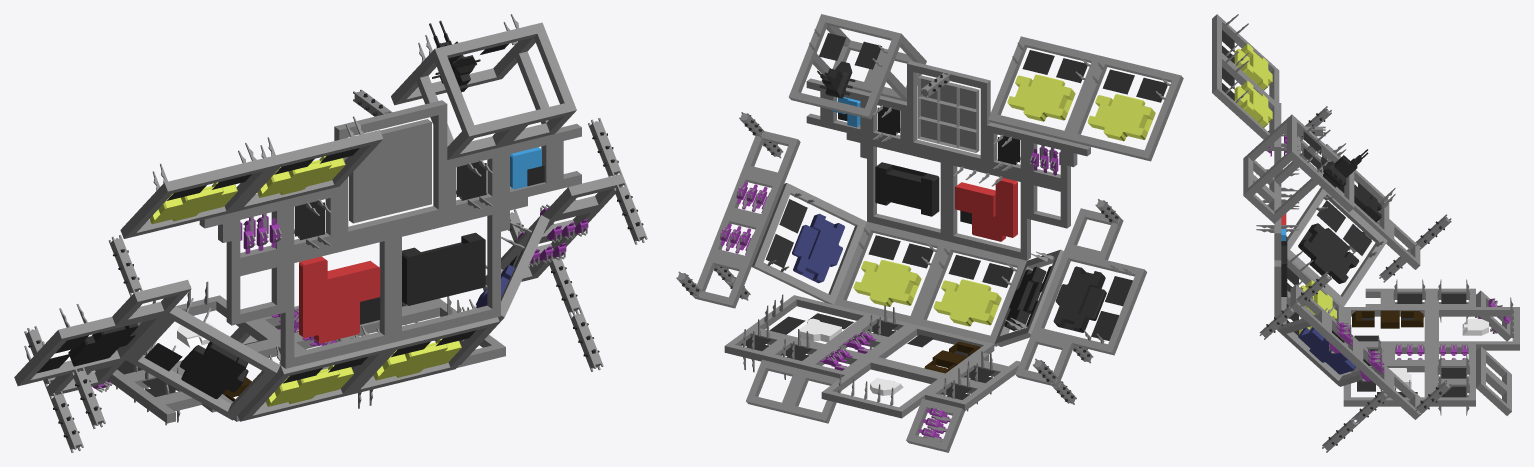
The model's file is StarbaseAtlasProjectOrigin.glb.
The picture shows the model from 3 angles, left to right: view 1: azimuth 30°, elevation 25°; view 2: azimuth 150°, elevation 25°; view 3: azimuth 270°, elevation 25°; orthographic projection. The views are drawn at different scales.
Visible parts, largest first — view 1: Block_Ore_Dropoff.001, Block_Ship_Shop.001, Block_Ship_Hangars.001, Block_Player_Ship_Shop_OKI.001, Block_Player_Ship_Shop_Rando.004, Block_Player_Ship_Shop_Rando.003, Block_Player_Ship_Shop_OKI.002, Block_Player_Ship_Shop_Rando.002, Block_VIS_HQ.002, Block_Player_Ship_Shop_Rando.001, Quarter_Block_Towers.035, Quarter_Block_Refuel.005 (+27 smaller); view 2: Block_Player_Ship_Shop_Duratech.001, Block_Ore_Dropoff.001, Block_Player_Ship_Shop_OKI.002, Block_Player_Ship_Shop_Rando.004, Block_Player_Ship_Shop_Rando.003, Block_Player_Ship_Shop_Rando.002, Block_Player_Ship_Shop_Rando.001, Block_Ship_Shop.001, Block_VIS_HQ.002, Block_Ship_Hangars.001, Block_Marketplace.001, Block_Command_Center.001 (+26 smaller); view 3: Block_Player_Ship_Shop_OKI.001, Block_VIS_HQ.002, Block_Player_Ship_Shop_Rando.003, Block_Player_Ship_Shop_Rando.004, Block_Player_Ship_Shop_Duratech.001, Block_Command_Center.001, Block_Work_Hub.001, Block_Player_Ship_Shop_OKI.002, Block_Marketplace.001, Block_Player_Ship_Shop_Rando.002, Quarter_Block_Towers.031, Quarter_Block_Refuel.003 (+30 smaller).
Part boxes in pixels (x1,y1,x2,y2): Block_Ore_Dropoff.001: [334, 100, 447, 242]; Block_Ship_Shop.001: [280, 230, 393, 368]; Block_Ship_Hangars.001: [393, 203, 500, 342]; Block_Player_Ship_Shop_OKI.001: [126, 298, 280, 420]; Block_Player_Ship_Shop_Rando.004: [120, 143, 275, 238]; Block_Player_Ship_Shop_Rando.003: [232, 116, 383, 212]; Block_Player_Ship_Shop_OKI.002: [14, 304, 168, 386]; Block_Player_Ship_Shop_Rando.002: [237, 325, 391, 421]; Block_VIS_HQ.002: [391, 14, 545, 105]; Block_Player_Ship_Shop_Rando.001: [348, 299, 499, 395]; Quarter_Block_Towers.035: [285, 186, 339, 255]; Quarter_Block_Refuel.005: [226, 199, 285, 268]; Block_Player_Ship_Shop_Duratech.001: [751, 183, 866, 304]; Block_Ore_Dropoff.001: [907, 61, 990, 166]; Block_Player_Ship_Shop_OKI.002: [1032, 250, 1146, 355]; Block_Player_Ship_Shop_Rando.004: [1068, 56, 1183, 161]; Block_Player_Ship_Shop_Rando.003: [988, 36, 1100, 141]; Block_Player_Ship_Shop_Rando.002: [914, 241, 1026, 346]; Block_Player_Ship_Shop_Rando.001: [834, 221, 946, 324]; Block_Ship_Shop.001: [947, 157, 1030, 260]; Block_VIS_HQ.002: [788, 14, 903, 119]; Block_Ship_Hangars.001: [867, 138, 946, 240]; Block_Marketplace.001: [748, 294, 873, 348]; Block_Command_Center.001: [821, 358, 947, 418]; Block_Player_Ship_Shop_OKI.001: [1287, 187, 1387, 306]; Block_VIS_HQ.002: [1287, 114, 1368, 212]; Block_Player_Ship_Shop_Rando.003: [1212, 51, 1279, 148]; Block_Player_Ship_Shop_Rando.004: [1212, 14, 1279, 107]; Block_Player_Ship_Shop_Duratech.001: [1278, 305, 1384, 386]; Block_Command_Center.001: [1432, 297, 1519, 350]; Block_Work_Hub.001: [1343, 307, 1431, 344]; Block_Player_Ship_Shop_OKI.002: [1322, 143, 1395, 239]; Block_Marketplace.001: [1343, 363, 1431, 406]; Block_Player_Ship_Shop_Rando.002: [1287, 251, 1343, 323]; Quarter_Block_Towers.031: [1432, 372, 1475, 415]; Quarter_Block_Refuel.003: [1353, 341, 1389, 391].
Bounding box in the file's own units: 1871 × 1317 × 1293.
